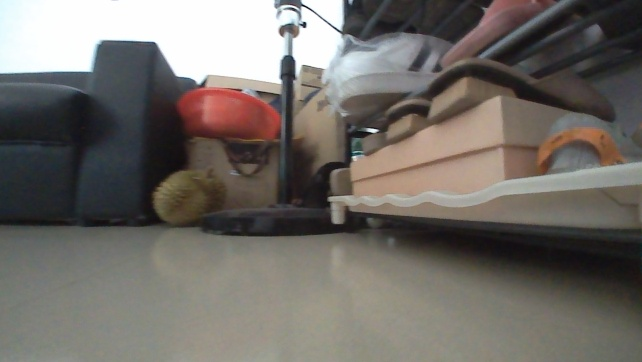chair_base: (195, 194, 354, 239)
sofa1: (0, 35, 198, 228)
wire: (302, 3, 345, 35)
